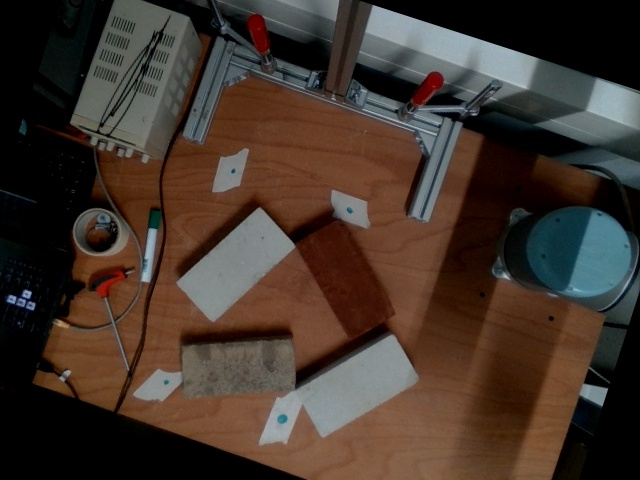brick: (175, 206, 297, 325), (294, 334, 421, 439), (291, 217, 397, 342), (177, 337, 296, 402)
